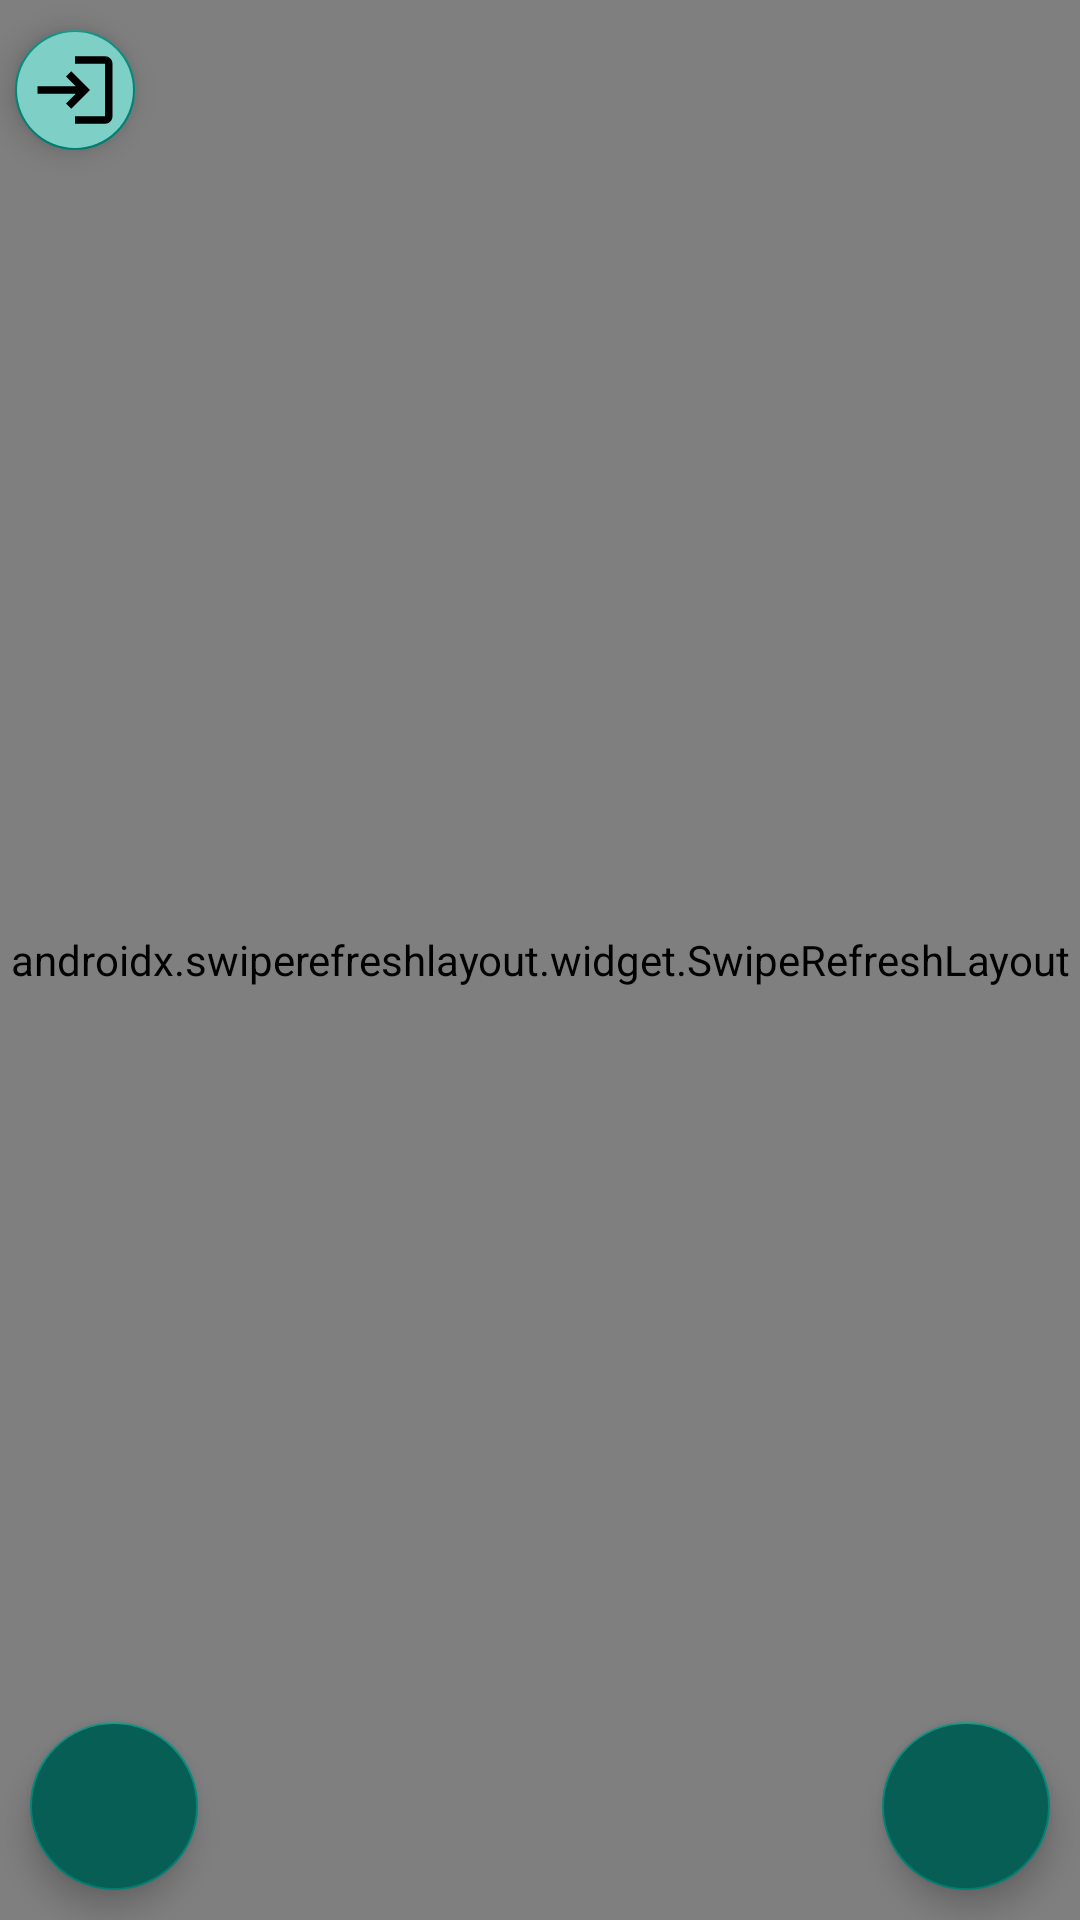

Icons on this 1080px x 1920px Android screen, each with its box as region(x1, y1, x2, y2):
login: region(15, 30, 135, 150)
